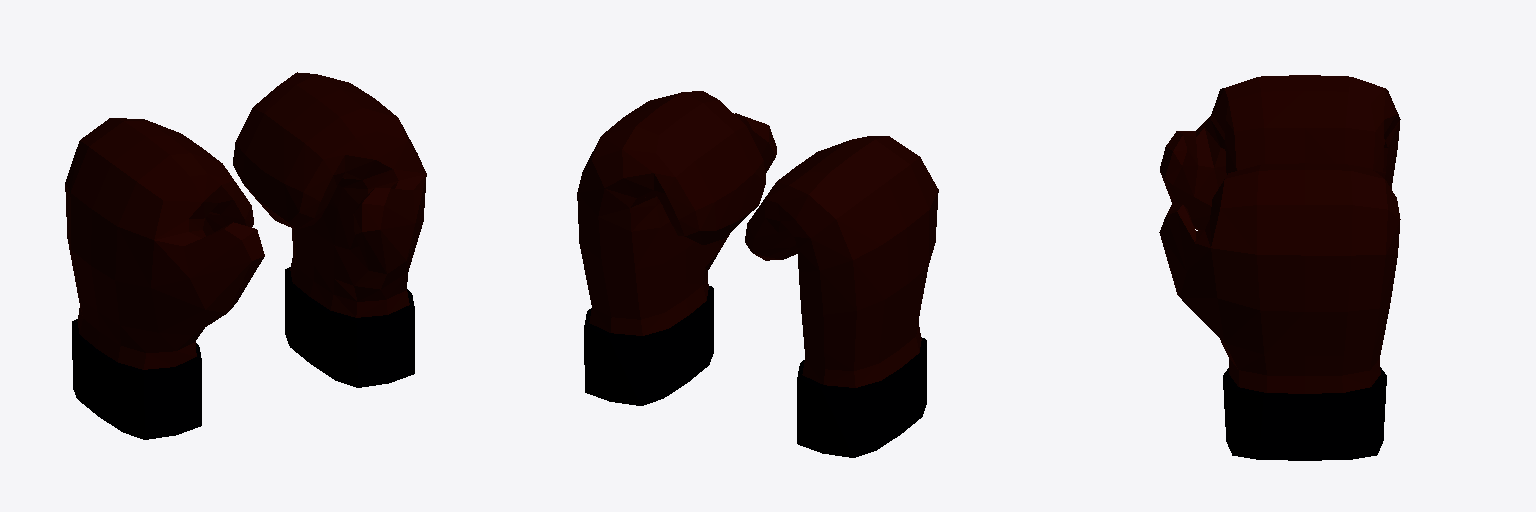
Rendered from BoxingGloves1.obj.
The picture shows the model from 3 angles: view 1: azimuth 30°, elevation 25°; view 2: azimuth 150°, elevation 25°; view 3: azimuth 270°, elevation 25°; orthographic projection.
Visible parts, largest first — view 1: RBoxingGloves1_Cube, LBoxingGloves1_Cube.001; view 2: LBoxingGloves1_Cube.001, RBoxingGloves1_Cube; view 3: LBoxingGloves1_Cube.001, RBoxingGloves1_Cube.
Boxes of the visible parts, <box> form: RBoxingGloves1_Cube: <box>65,118,264,439</box>; LBoxingGloves1_Cube.001: <box>233,72,426,387</box>; LBoxingGloves1_Cube.001: <box>577,91,776,405</box>; RBoxingGloves1_Cube: <box>745,136,938,457</box>; LBoxingGloves1_Cube.001: <box>1159,163,1400,460</box>; RBoxingGloves1_Cube: <box>1160,75,1400,230</box>.
Bounding box in the file's own units: 0.3898 × 0.3263 × 0.2665.